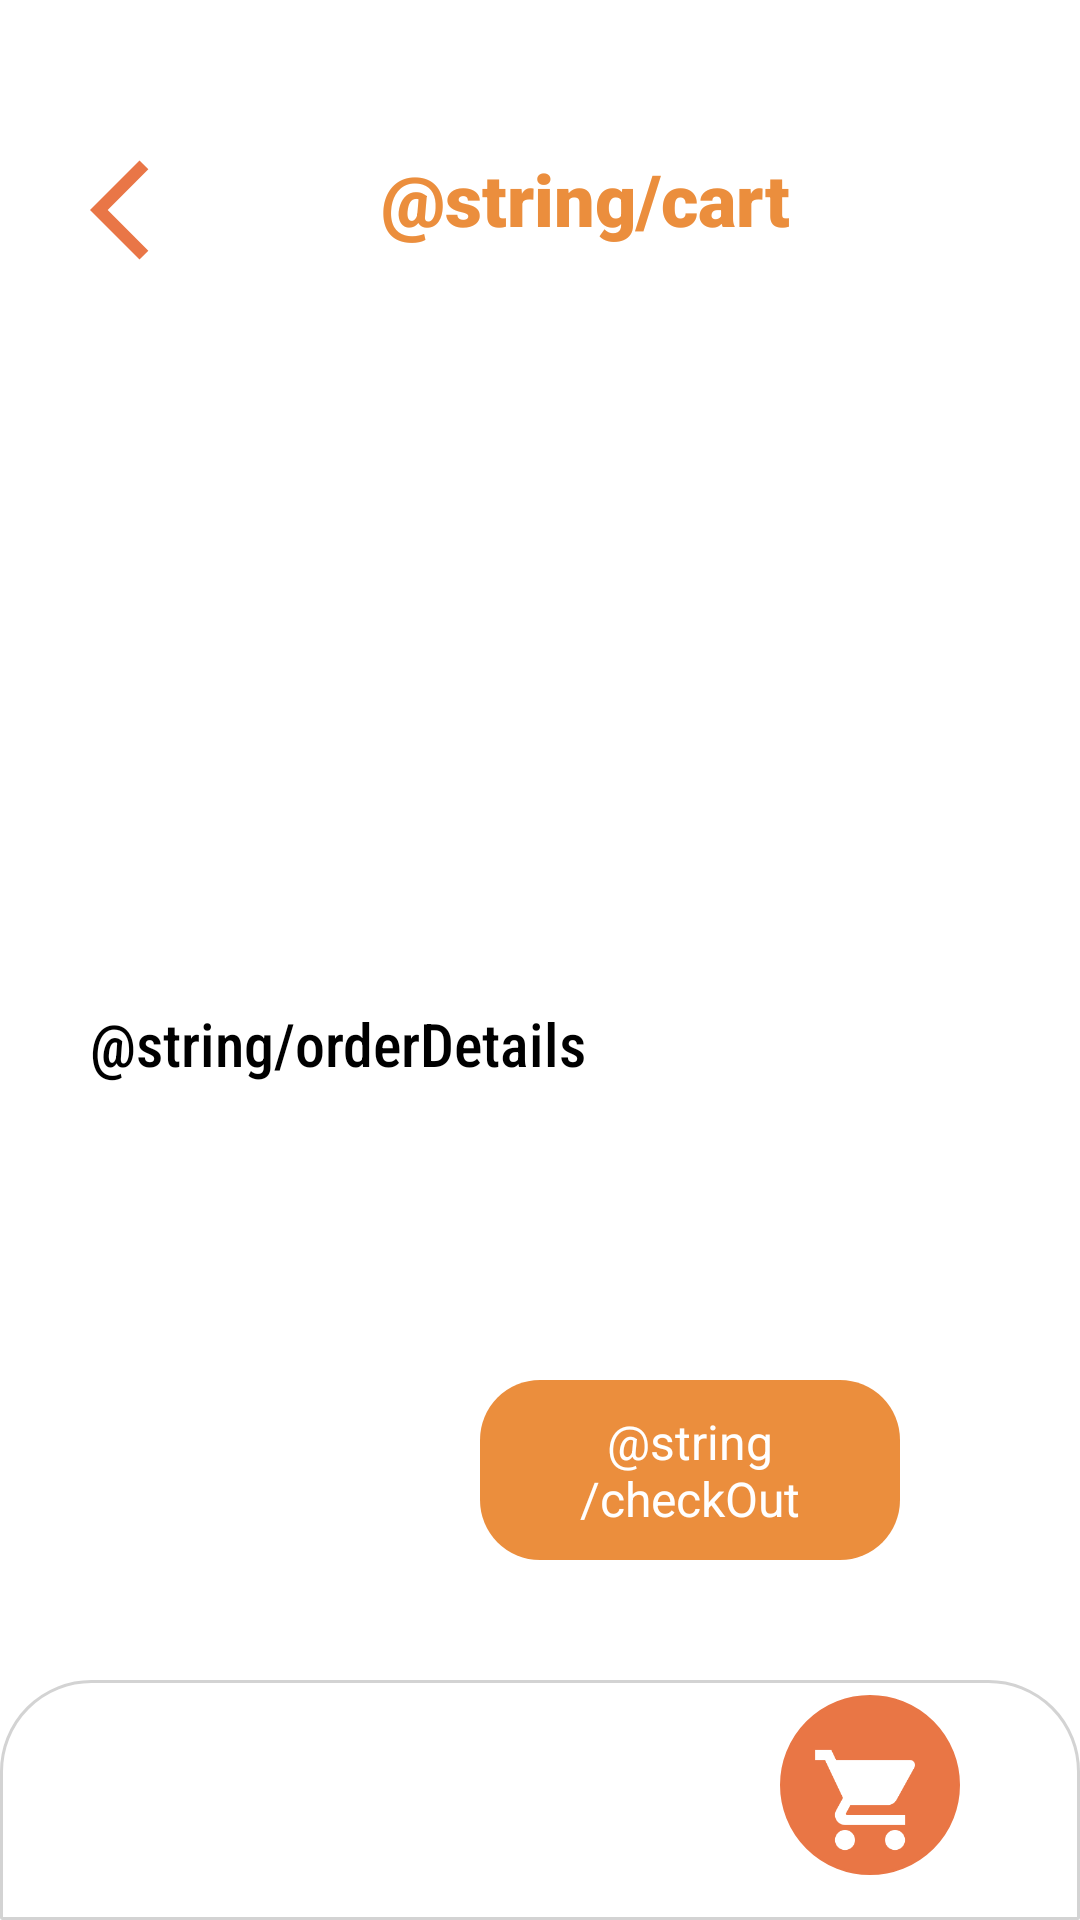

Point at icon controls on the screen. Image size 1080×1920, points as [x,y].
back: [119,210]
